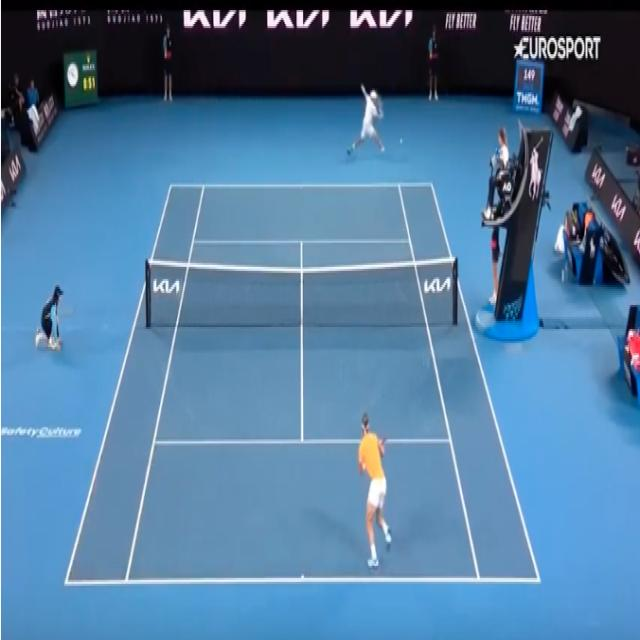ball: (400, 137, 403, 145)
